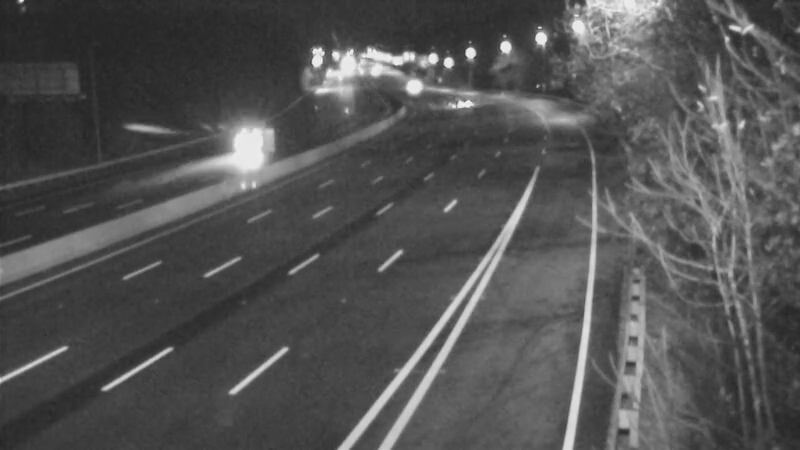vehicle: (381, 57, 431, 107), (432, 70, 482, 120), (217, 122, 267, 172)
